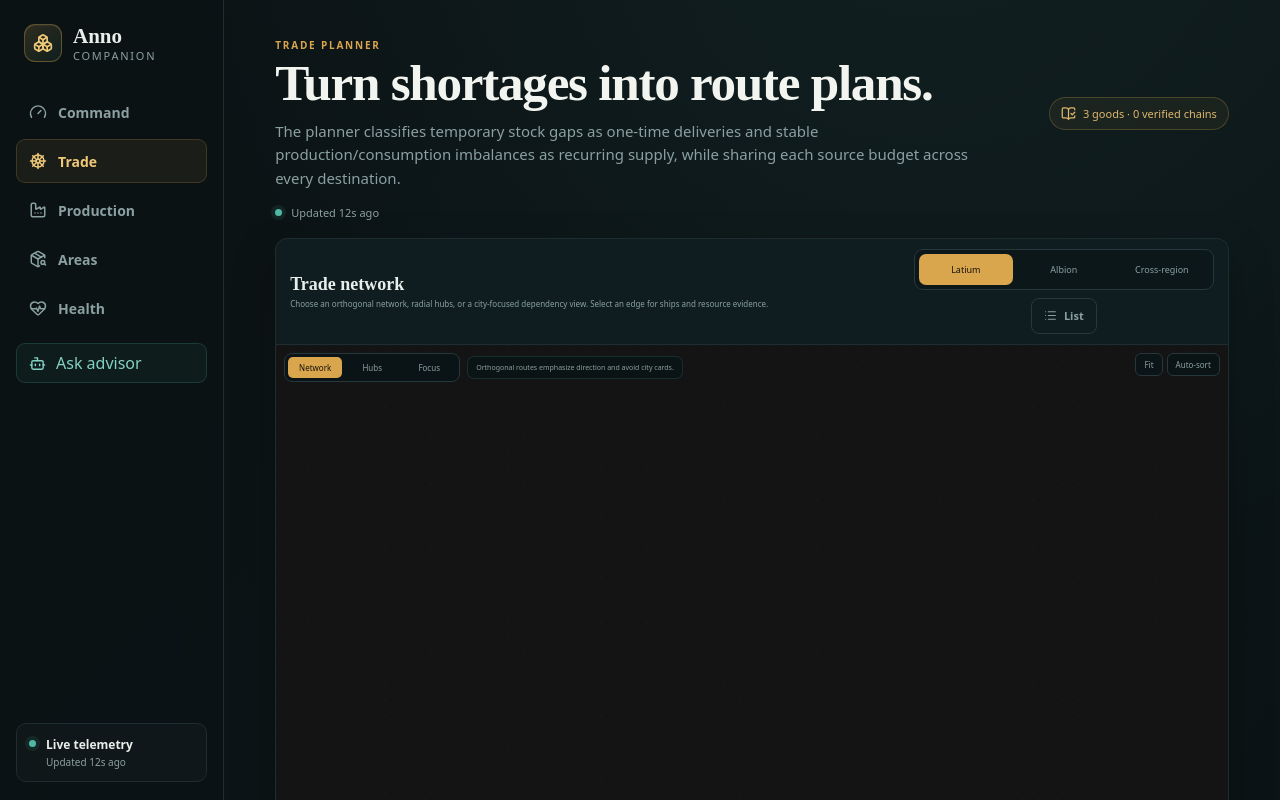
Scenario: first-class management dashboard › offers orthogonal network, radial hubs, and a selected-city focus layout
Click the button "Focus" at (429, 367), box 402,357 -> 456,378
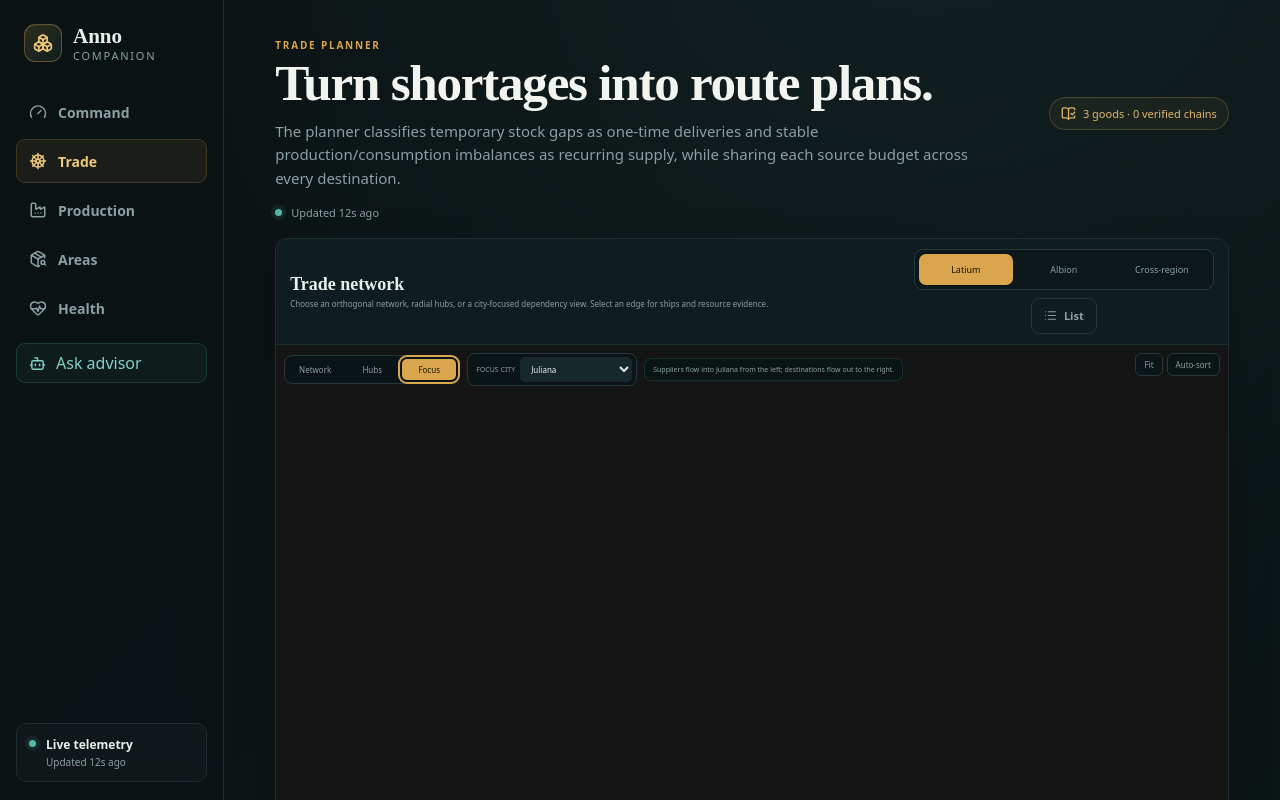
Now the dropdown labelled "Focus city" is shown, box 520,357 -> 632,382
